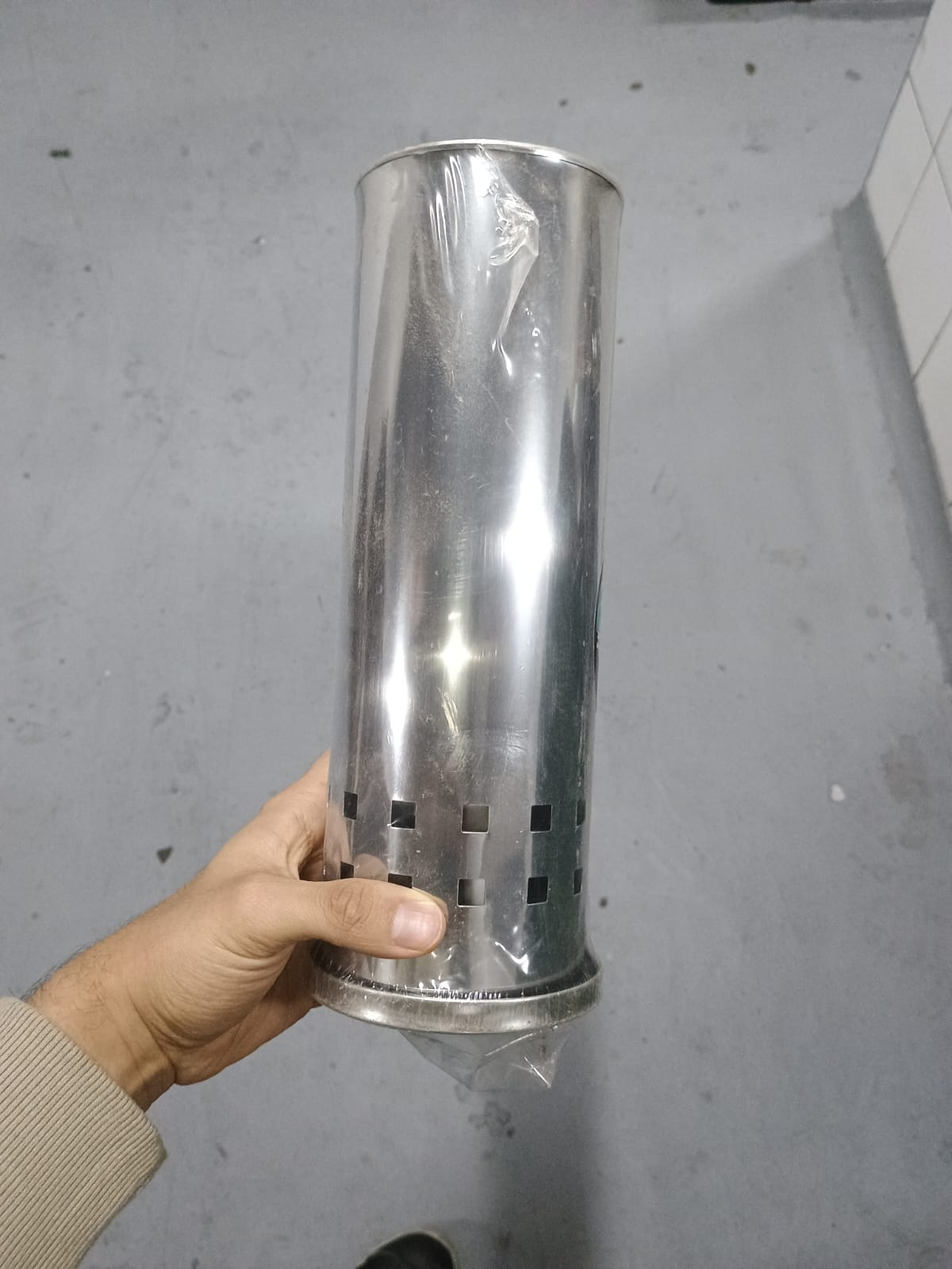Metal: (310, 140, 621, 1028)
